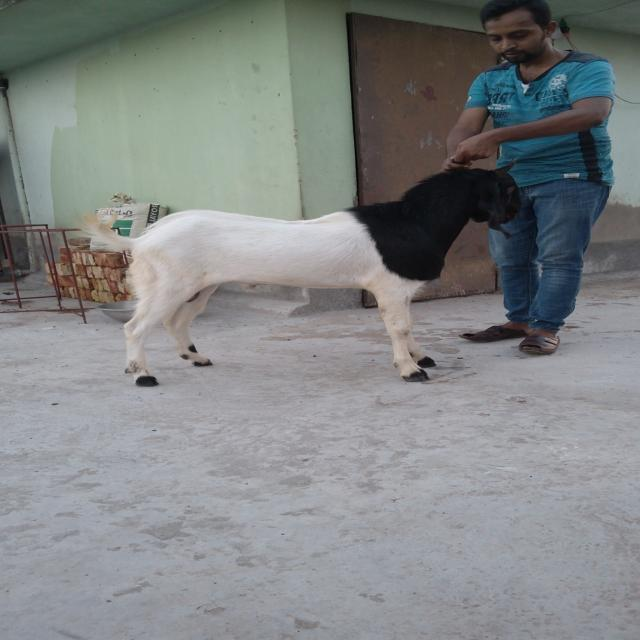Goat: (74, 158, 525, 388)
